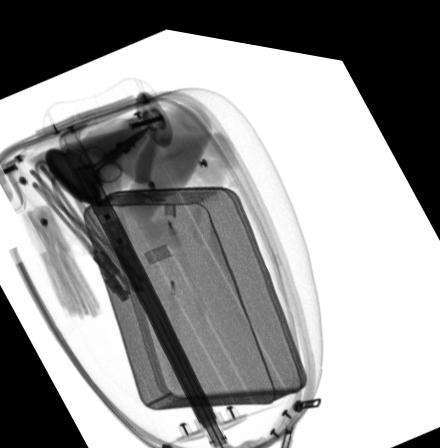Scissors: (73, 122, 152, 180)
